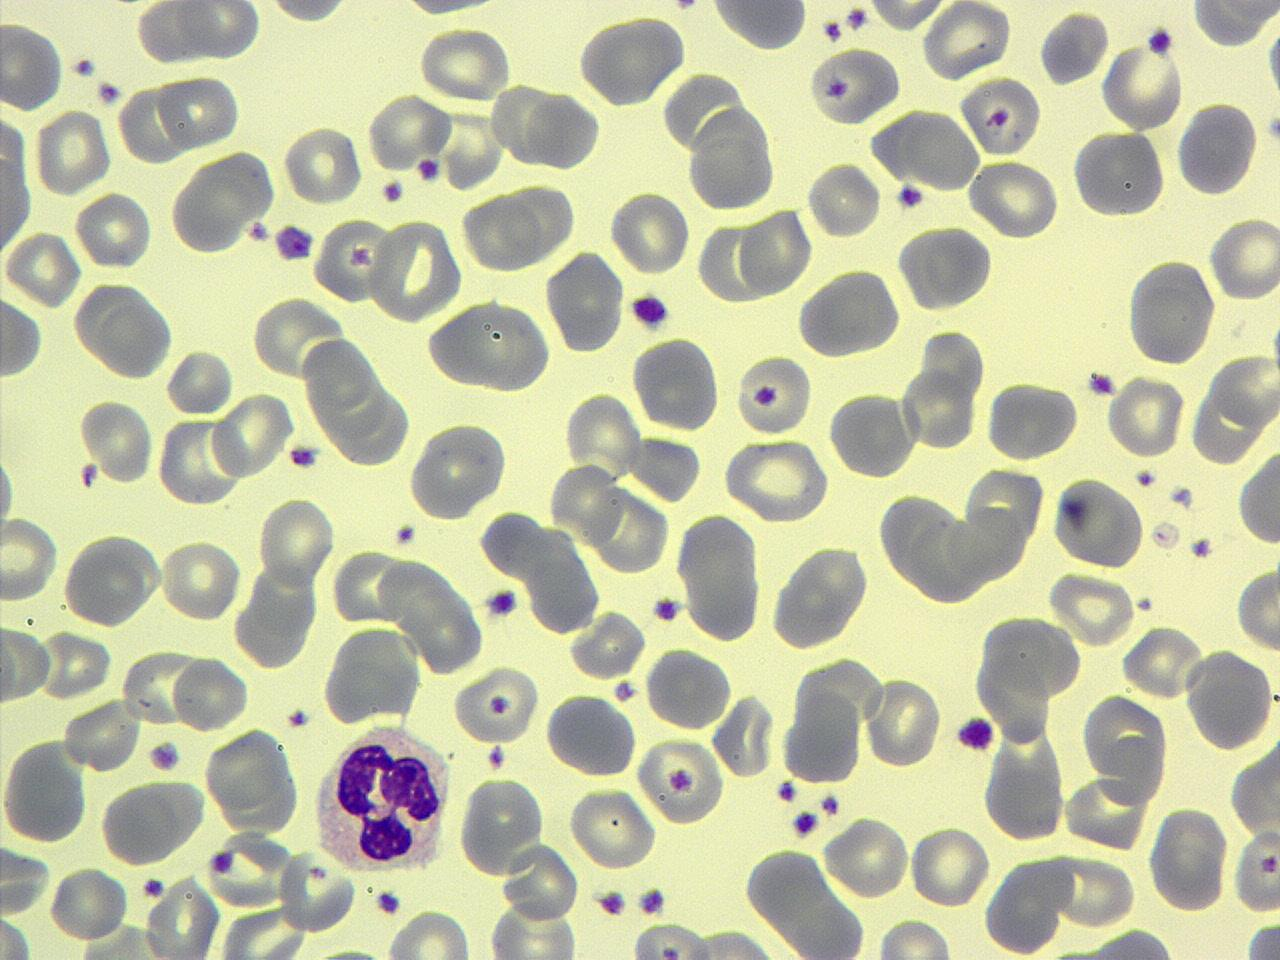Platelets: (273, 220, 318, 262), (953, 713, 997, 755), (628, 290, 672, 330), (483, 584, 520, 621), (146, 736, 184, 772), (634, 885, 668, 917), (650, 593, 684, 625), (1085, 368, 1119, 399), (789, 806, 821, 838), (286, 442, 322, 470), (594, 887, 628, 916), (1146, 24, 1174, 57), (894, 184, 926, 211), (96, 78, 124, 108), (772, 776, 800, 805), (70, 54, 99, 82), (414, 156, 442, 184), (380, 177, 405, 207), (246, 220, 274, 246), (373, 888, 401, 914), (844, 5, 870, 33), (140, 874, 167, 900), (818, 791, 843, 818), (1188, 536, 1216, 560), (1262, 112, 1280, 145), (1169, 484, 1195, 506), (1134, 466, 1156, 490), (823, 17, 843, 42), (669, 0, 702, 15)
RBC: (425, 295, 554, 394), (672, 509, 763, 643), (168, 148, 278, 256), (574, 9, 690, 109), (768, 541, 872, 650), (405, 418, 511, 521), (1124, 255, 1218, 366), (796, 263, 904, 358), (368, 216, 462, 324), (721, 436, 832, 525), (867, 105, 981, 190), (1185, 644, 1273, 752), (630, 332, 722, 435), (1145, 803, 1231, 913), (1048, 474, 1146, 570), (456, 773, 546, 877), (1070, 127, 1168, 220), (0, 738, 85, 845), (1080, 692, 1170, 792), (687, 113, 777, 212), (895, 222, 994, 312), (544, 248, 626, 352), (542, 690, 638, 778), (1099, 36, 1185, 134), (826, 387, 917, 479), (982, 377, 1080, 462), (634, 734, 724, 826), (820, 812, 912, 902), (61, 536, 149, 630), (780, 692, 866, 788), (1177, 99, 1261, 197), (202, 726, 291, 818), (566, 783, 658, 872), (156, 410, 241, 506), (209, 390, 298, 481), (805, 45, 904, 126), (643, 644, 734, 732), (864, 672, 944, 772), (93, 285, 177, 380), (256, 493, 336, 592), (312, 213, 397, 306), (562, 388, 645, 482), (966, 158, 1061, 240), (416, 24, 514, 103), (908, 820, 992, 912), (206, 828, 299, 910), (158, 536, 244, 624), (606, 187, 692, 275), (450, 663, 541, 746), (958, 72, 1044, 159), (366, 90, 453, 175), (1105, 371, 1187, 461), (919, 1, 1013, 79), (33, 106, 114, 196), (1045, 568, 1137, 646), (281, 121, 364, 207), (276, 848, 356, 936), (1047, 852, 1139, 928), (462, 189, 544, 273), (733, 352, 815, 436), (157, 70, 241, 152), (548, 462, 628, 548), (79, 395, 155, 485), (738, 206, 812, 297), (142, 874, 222, 958), (60, 696, 146, 774), (74, 188, 153, 272), (1208, 212, 1280, 304), (1120, 622, 1204, 700), (3, 227, 82, 309), (47, 864, 130, 942), (504, 840, 581, 924), (524, 88, 600, 173), (901, 366, 977, 451), (805, 158, 882, 241), (170, 652, 248, 733), (569, 606, 651, 682), (0, 21, 65, 114), (1228, 734, 1280, 847), (1210, 348, 1280, 431), (1, 511, 61, 606), (1038, 7, 1108, 88), (712, 692, 776, 780), (705, 0, 809, 53), (487, 898, 574, 960), (133, 1, 214, 65), (164, 345, 235, 418), (175, 0, 262, 59), (0, 114, 34, 262), (382, 906, 474, 960), (1234, 445, 1280, 548), (0, 290, 46, 384), (1234, 564, 1280, 656), (1232, 826, 1280, 914), (1189, 0, 1273, 48), (628, 920, 716, 960), (874, 916, 954, 959), (865, 0, 947, 33), (259, 0, 356, 27), (0, 910, 34, 960)
WBC: (304, 721, 456, 876), (1029, 924, 1195, 960)
